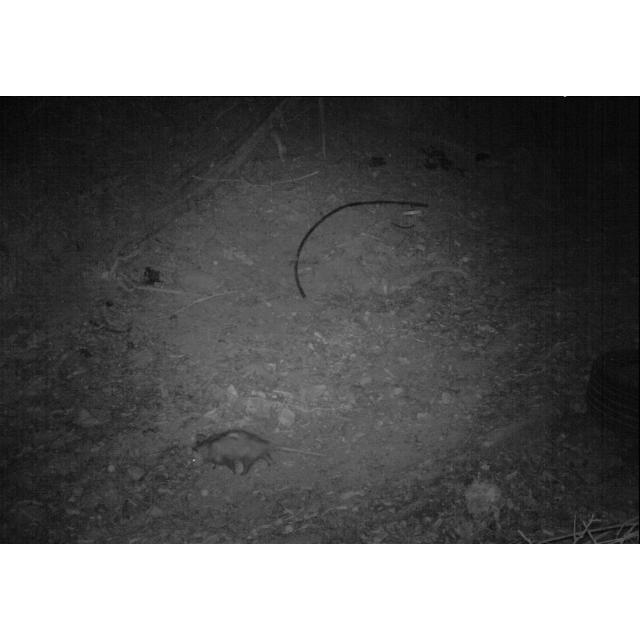animals: (185, 428, 328, 476)
